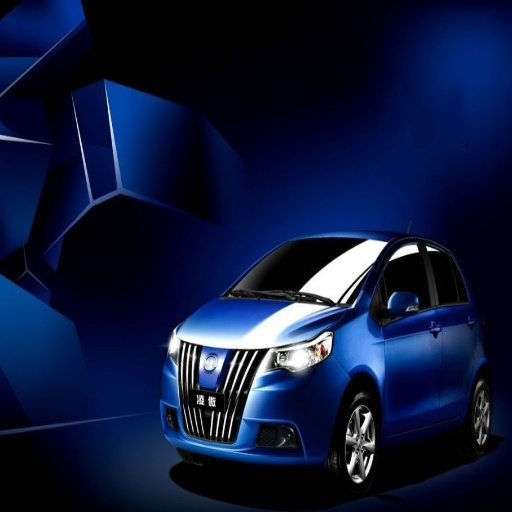back_glass: (8, 24, 53, 55)
front_bumper: (161, 334, 346, 463), (4, 125, 126, 216)
front_glass: (226, 238, 380, 304)
front_left_door: (377, 237, 440, 430)
